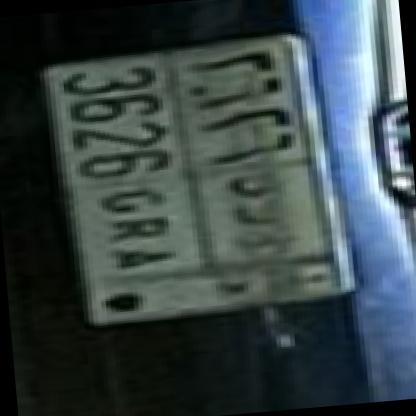english: (52, 32, 192, 322)
